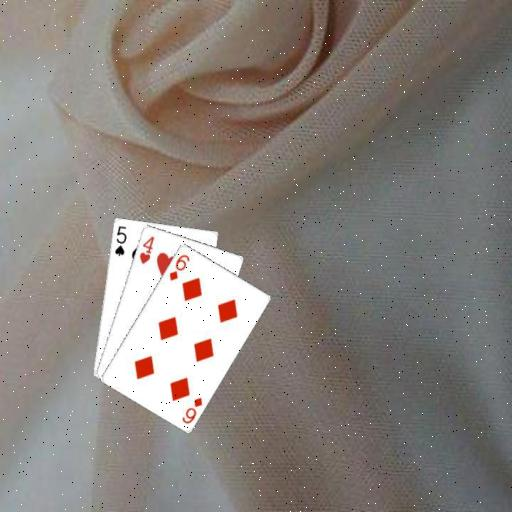4H: (136, 233, 156, 265)
5S: (111, 223, 128, 257)
6D: (179, 394, 204, 426), (166, 252, 192, 282)
